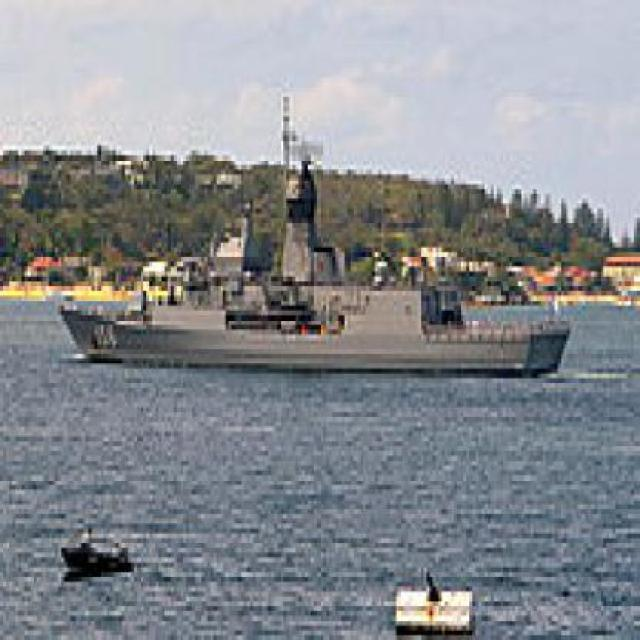warship2: (50, 113, 587, 390)
